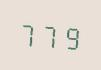nine: (61, 20, 81, 52)
seven: (18, 17, 38, 49), (40, 19, 60, 50)
